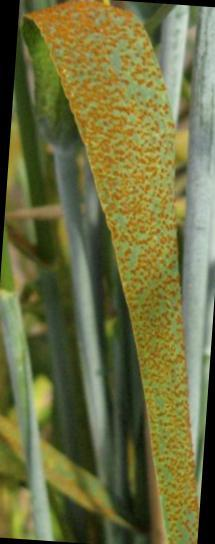Corn: (45, 24, 170, 246), (123, 244, 193, 514)
